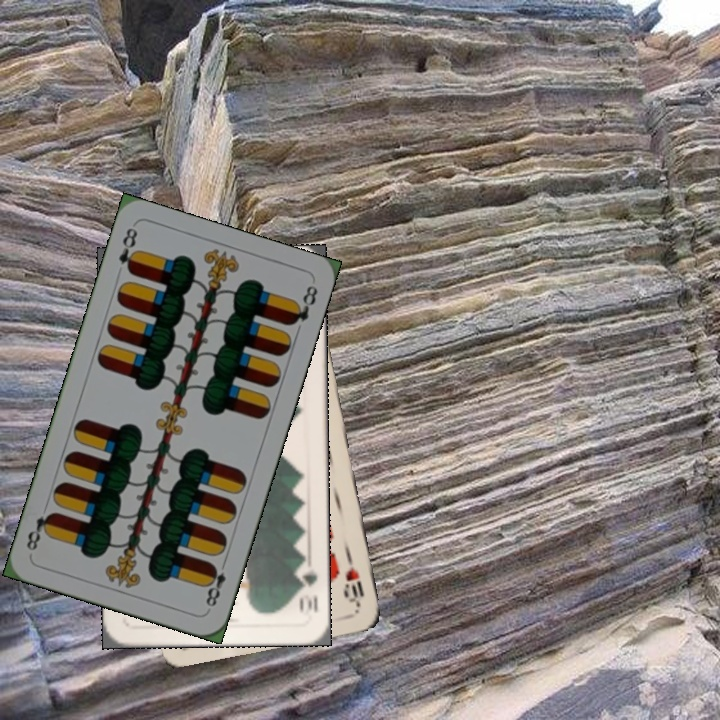E8: (201, 555, 230, 610), (114, 223, 141, 276)
G10: (294, 570, 320, 619)
H10: (341, 550, 367, 608)
